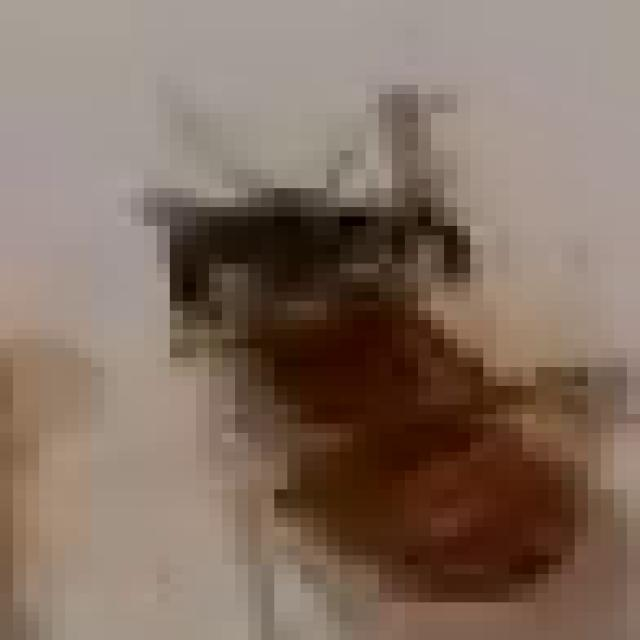honeybee: (131, 128, 640, 640)
